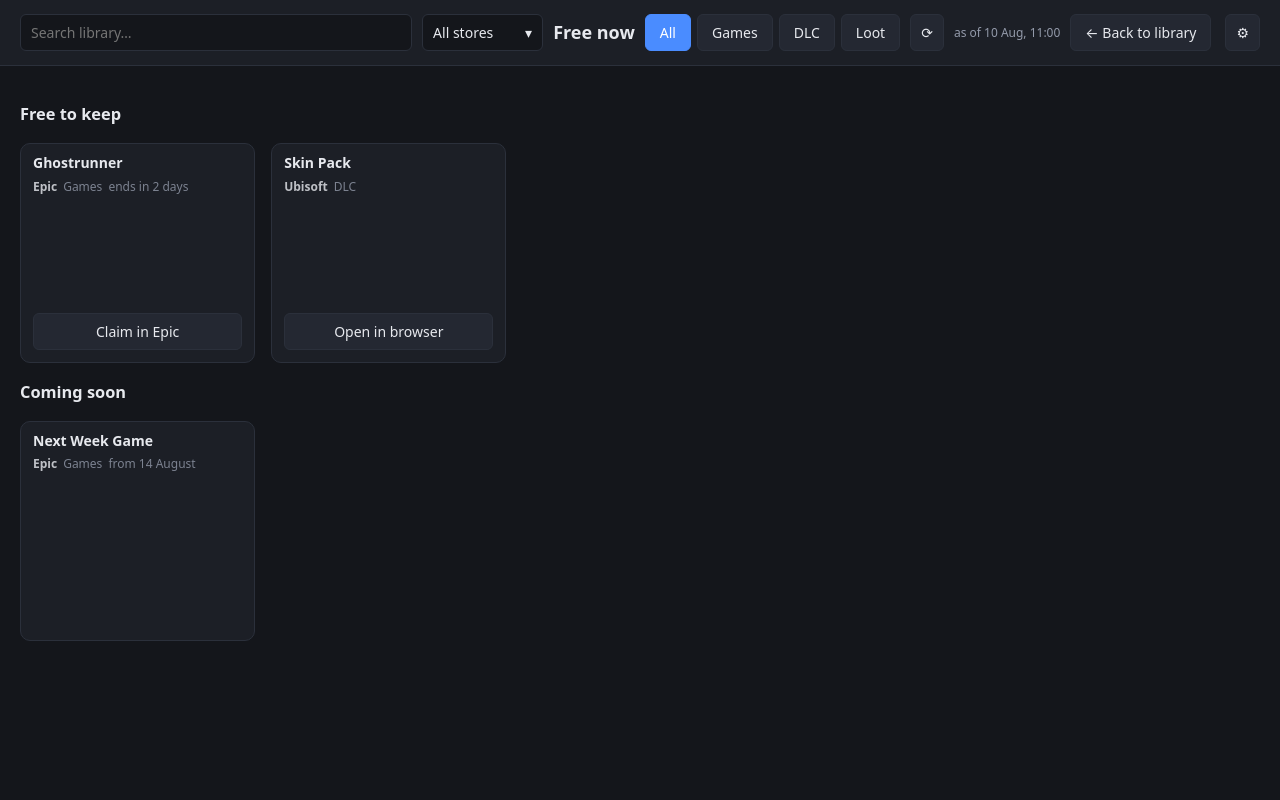
Scenario: FreeGames › says nothing matches when the chip empties the list
The image size is (1280, 800).
Expected: the heading "Skin Pack" is shown, [284, 153, 351, 172]
Click the button "Loot": (870, 32) [841, 14, 900, 51]
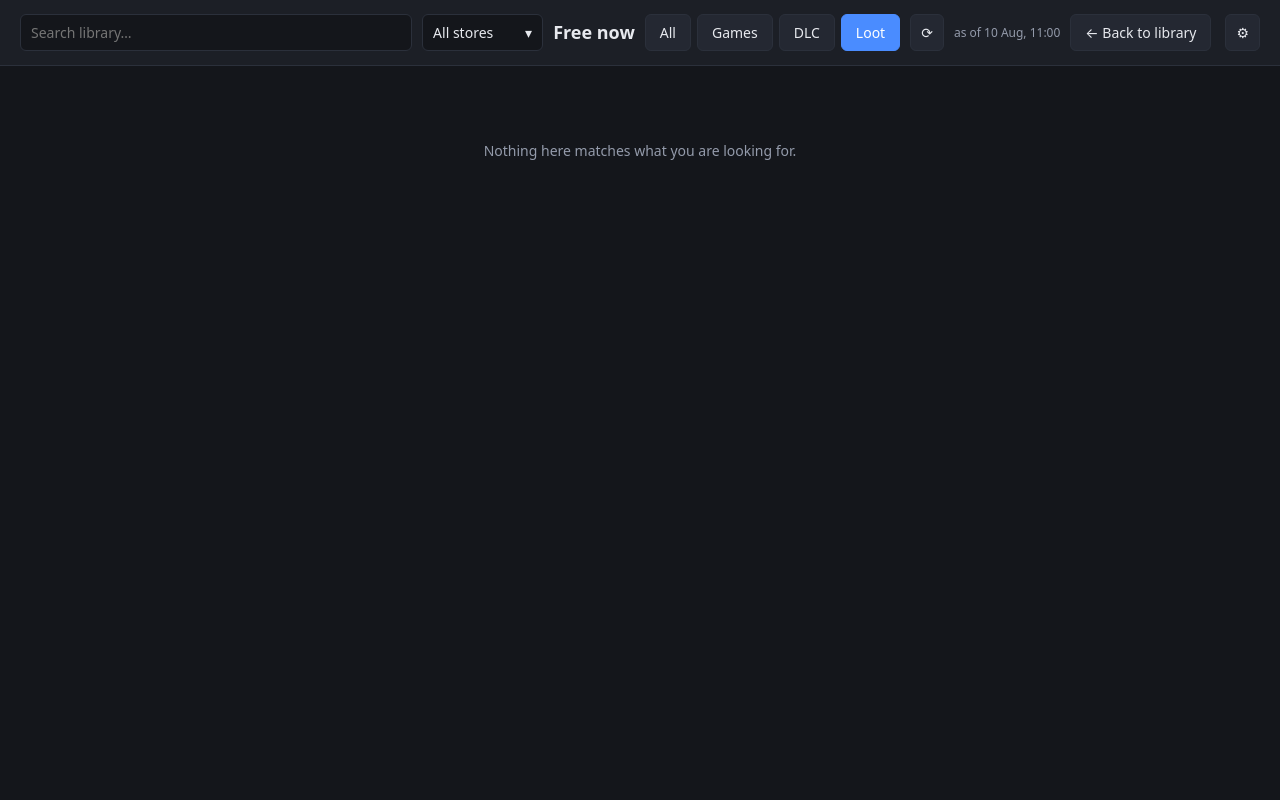
Now the text "Nothing here matches what you are looking for." is shown, box [484, 141, 796, 160]
